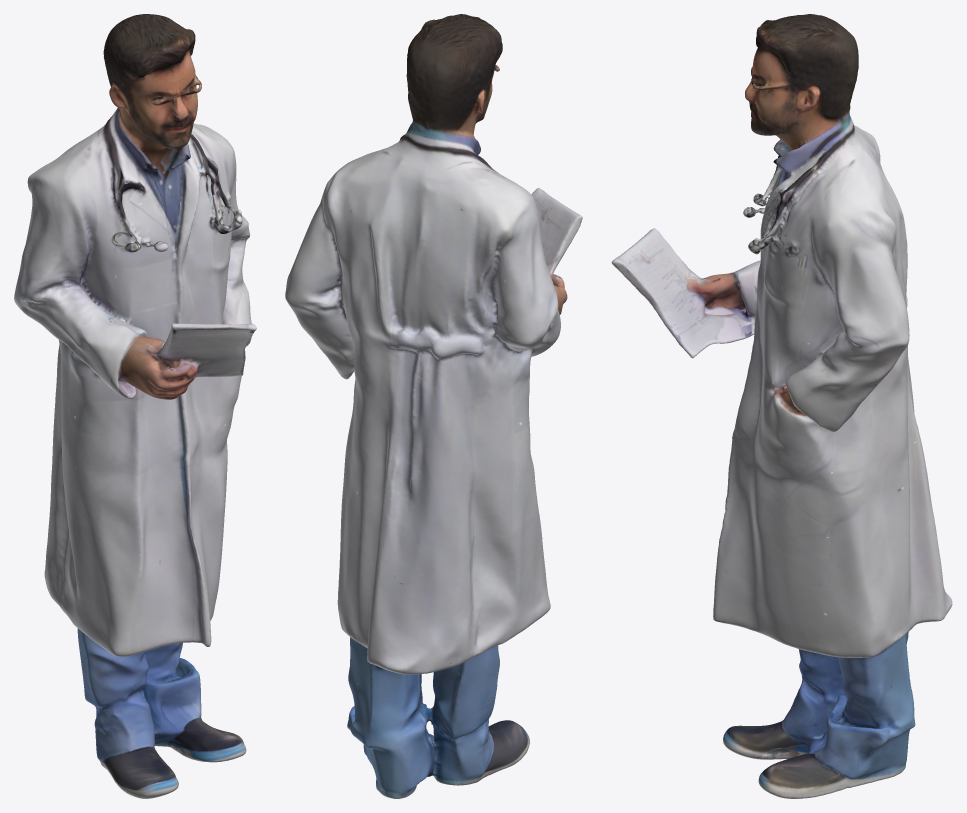
Rendered from doctor.glb.
3 renders of one model, left to right at view 1: azimuth 30°, elevation 25°; view 2: azimuth 150°, elevation 25°; view 3: azimuth 270°, elevation 25°, orthographic.
Bounding box in the file's own units: 22172 × 65539 × 27244.
Materials: 1 (1 with a texture image).
